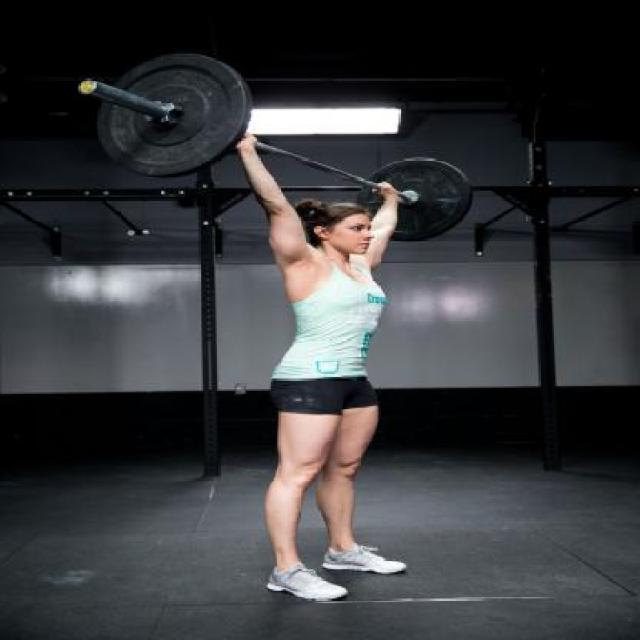barbell: (72, 46, 259, 180)
